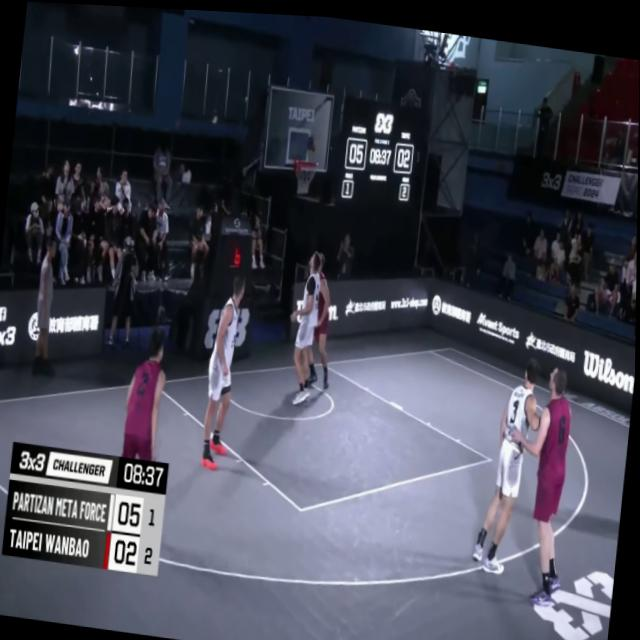ball: (303, 126, 322, 156)
hoop: (291, 149, 317, 195)
player: (491, 354, 579, 602), (471, 342, 549, 574), (196, 266, 248, 468), (283, 247, 327, 407), (122, 321, 171, 461), (302, 248, 342, 390)
